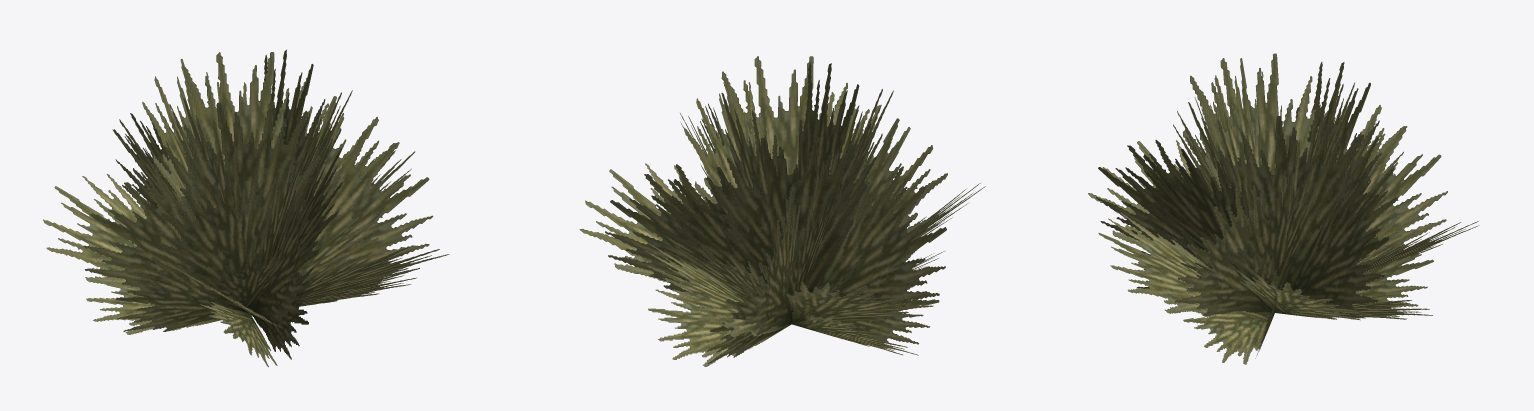
Rendered from C1SNGORSEB.obj.
The picture shows the model from 3 angles, left to right: view 1: azimuth 30°, elevation 25°; view 2: azimuth 150°, elevation 25°; view 3: azimuth 270°, elevation 25°; orthographic projection. The views are drawn at different scales.
Parts seen in each view (by area): view 1: Node 0; view 2: Node 0; view 3: Node 0.
Part boxes in pixels (x1,y1,x2,y2): Node 0: [43, 49, 449, 367]; Node 0: [579, 56, 985, 366]; Node 0: [1088, 53, 1479, 364].
Bounding box in the file's own units: 1.09 × 0.65 × 1.16.
Materials: 1 (1 with a texture image).
